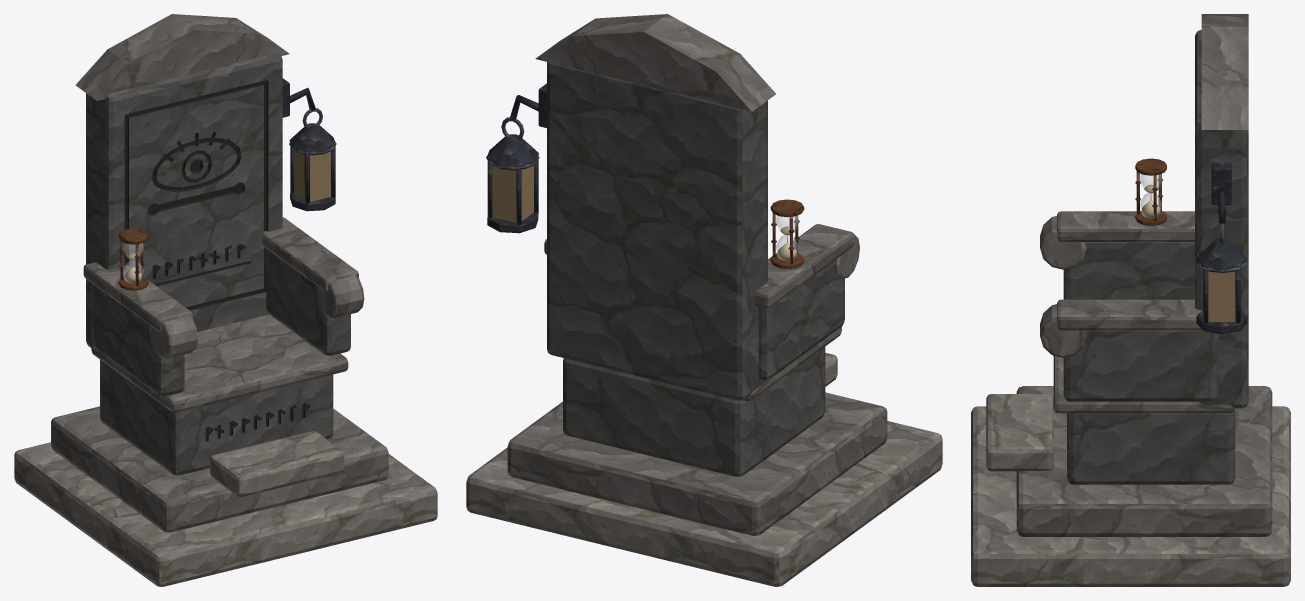
The model's file is vo_lookout_seat.glb.
3 views of the same model, side by side, from view 1: azimuth 30°, elevation 25°; view 2: azimuth 150°, elevation 25°; view 3: azimuth 270°, elevation 25° (orthographic). The views are drawn at different scales.
Parts seen in each view (by area): view 1: model; view 2: model; view 3: model.
Boxes of the visible parts, x1,y1,x2,y2 form: model: [14, 14, 437, 586]; model: [466, 14, 942, 586]; model: [971, 14, 1290, 586].
Size of the model in its own units: 1.08 by 1.6 by 0.95.
13 materials, 8 textured.
